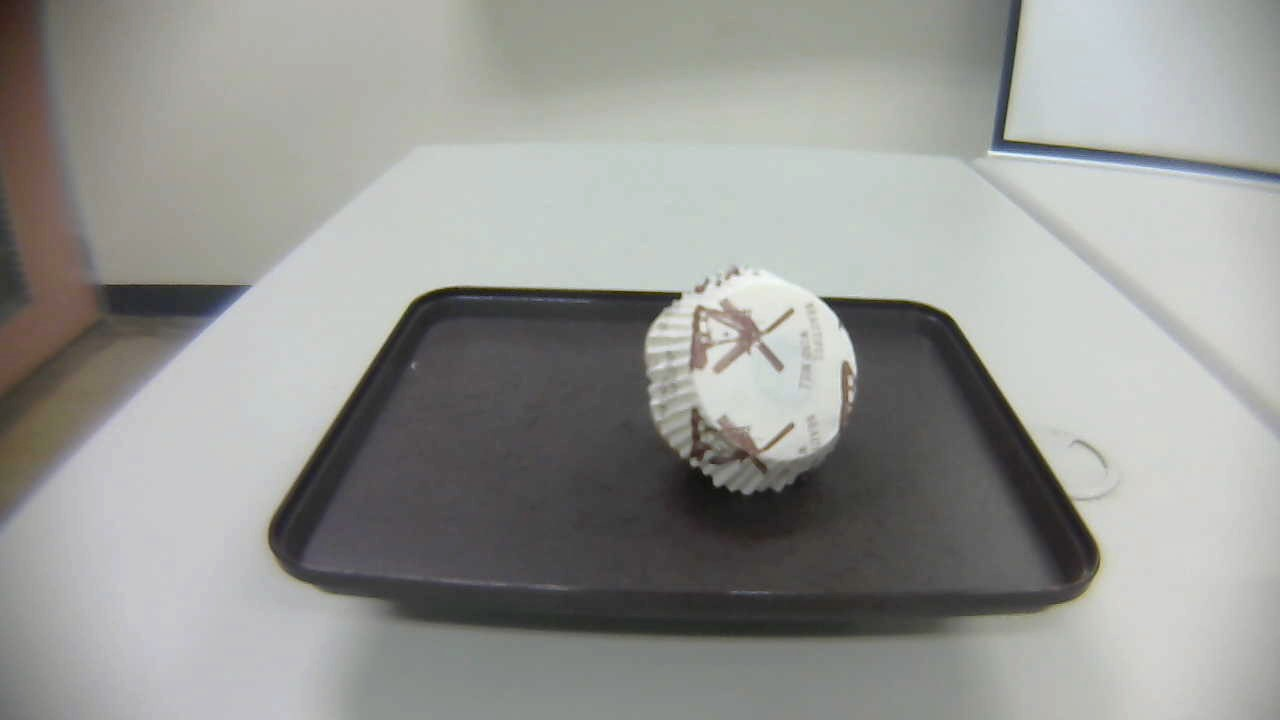mango tart: (643, 266, 858, 495)
